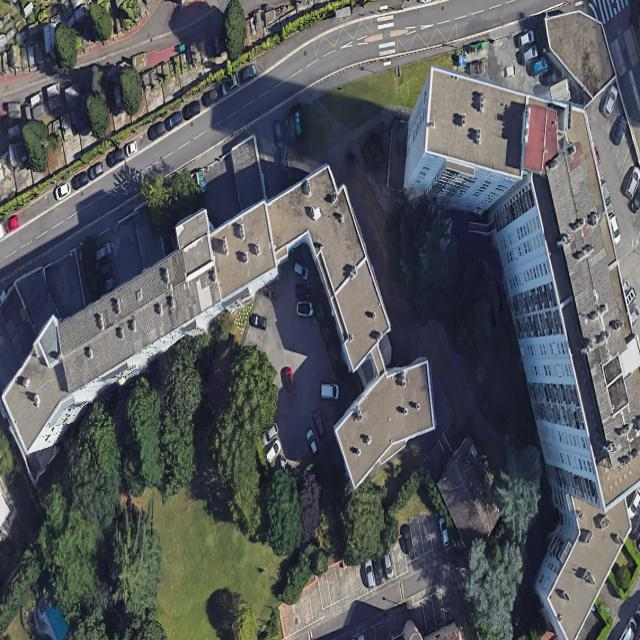immeuble: (0, 155, 461, 608), (380, 36, 640, 640)
